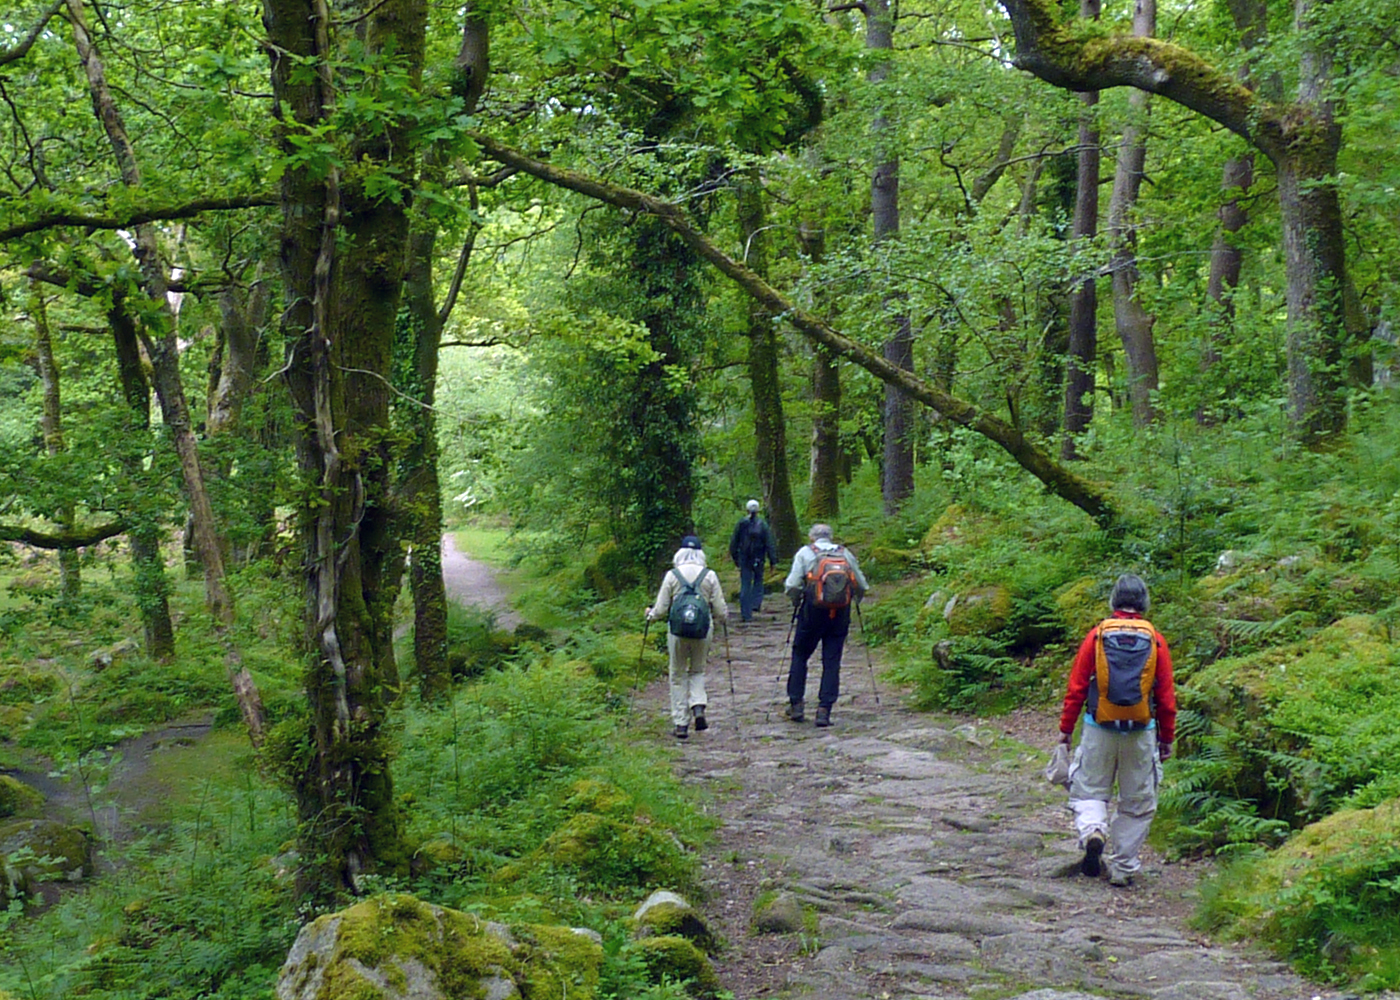Person: (1026, 568, 1211, 898), (766, 508, 911, 753), (611, 530, 773, 745), (706, 478, 796, 633)
